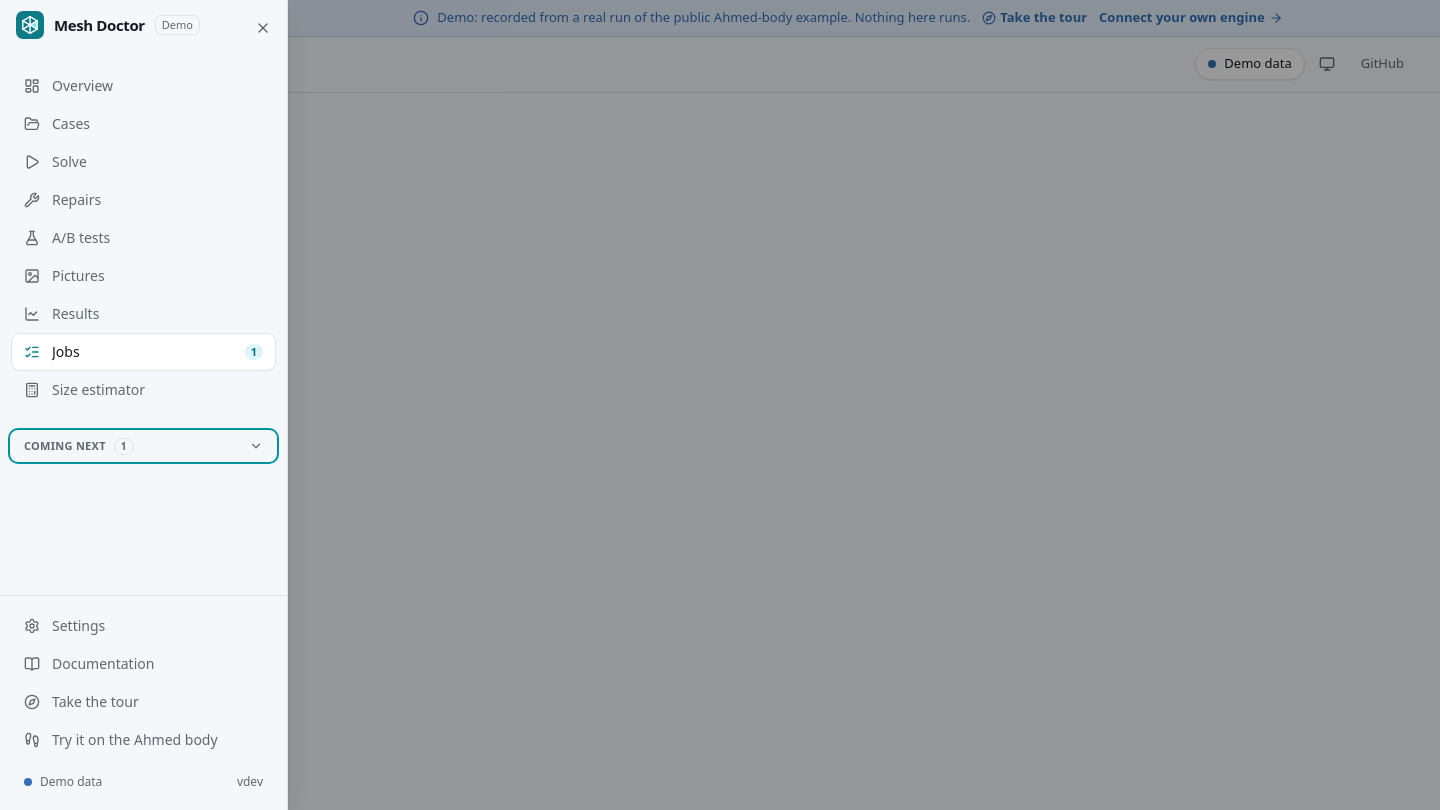
it: the sidebar's foot › keeps Try it on the Ahmed body at hand, after a first run too, and the phone's menu closes as it opens it
Earlier steps of the test are not shown.
Click the link "Try it on the Ahmed body" at (121, 740), box [24,730,218,749]
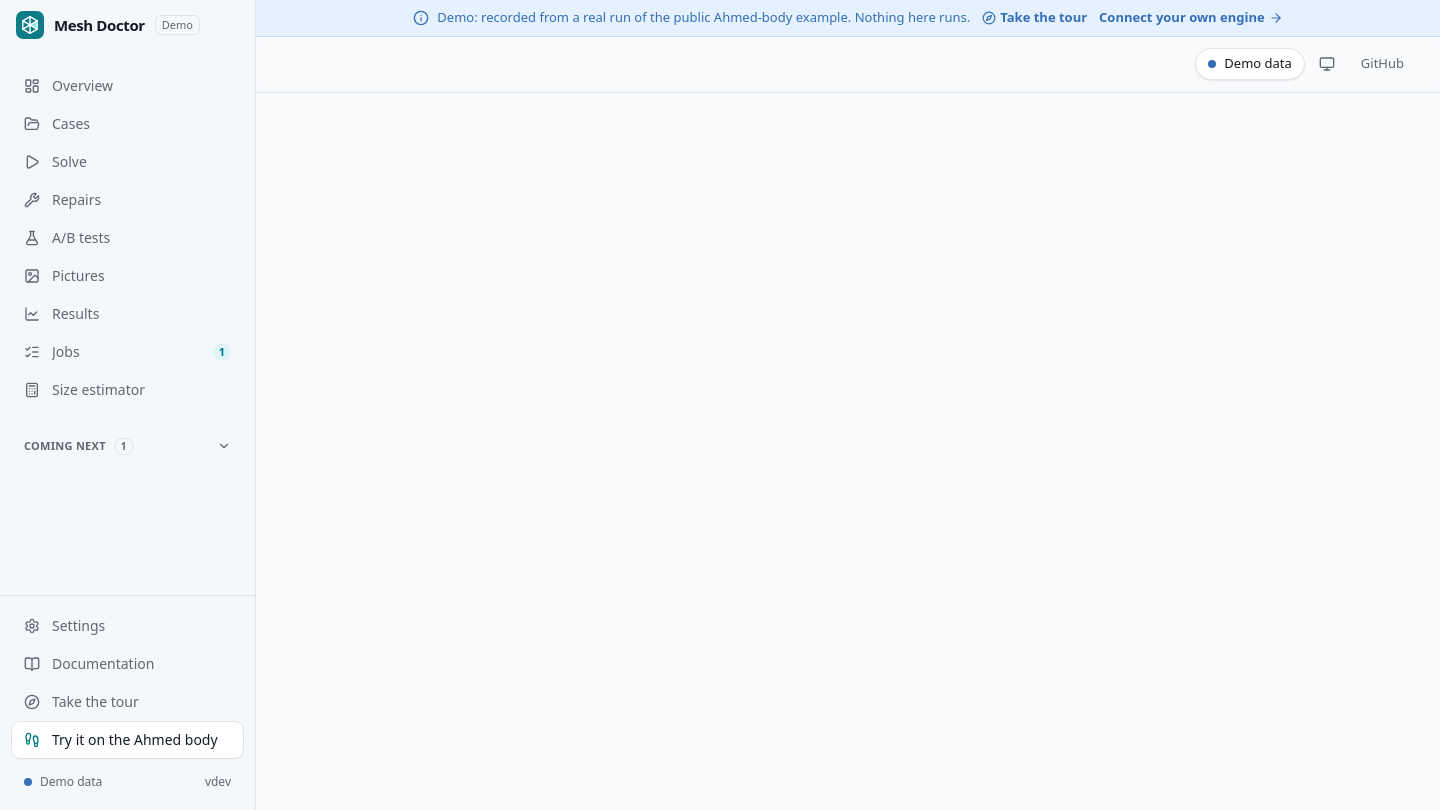
expect the dialog is gone: met
